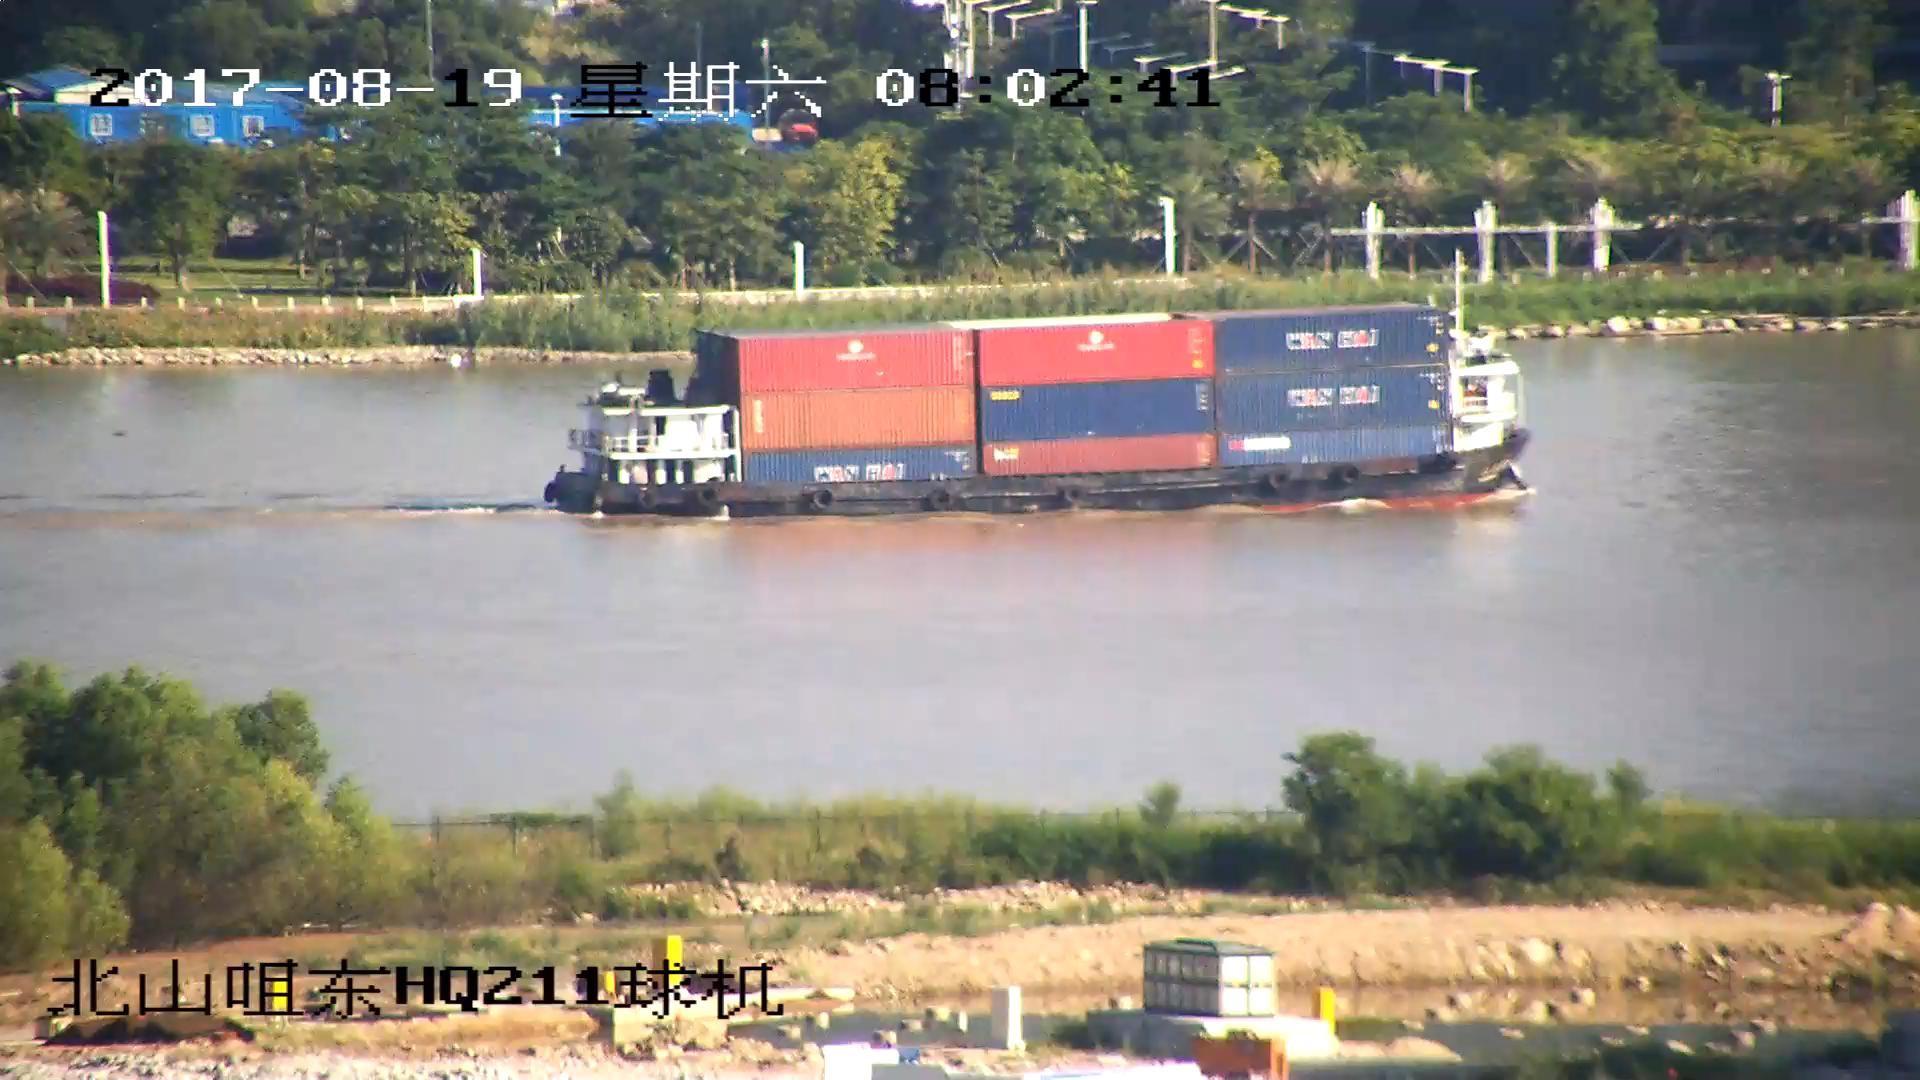container ship: (545, 256, 1525, 522)
